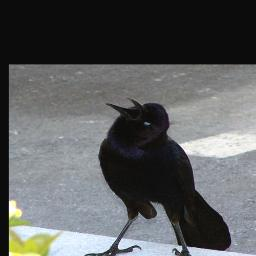Crow: (77, 97, 230, 256)
